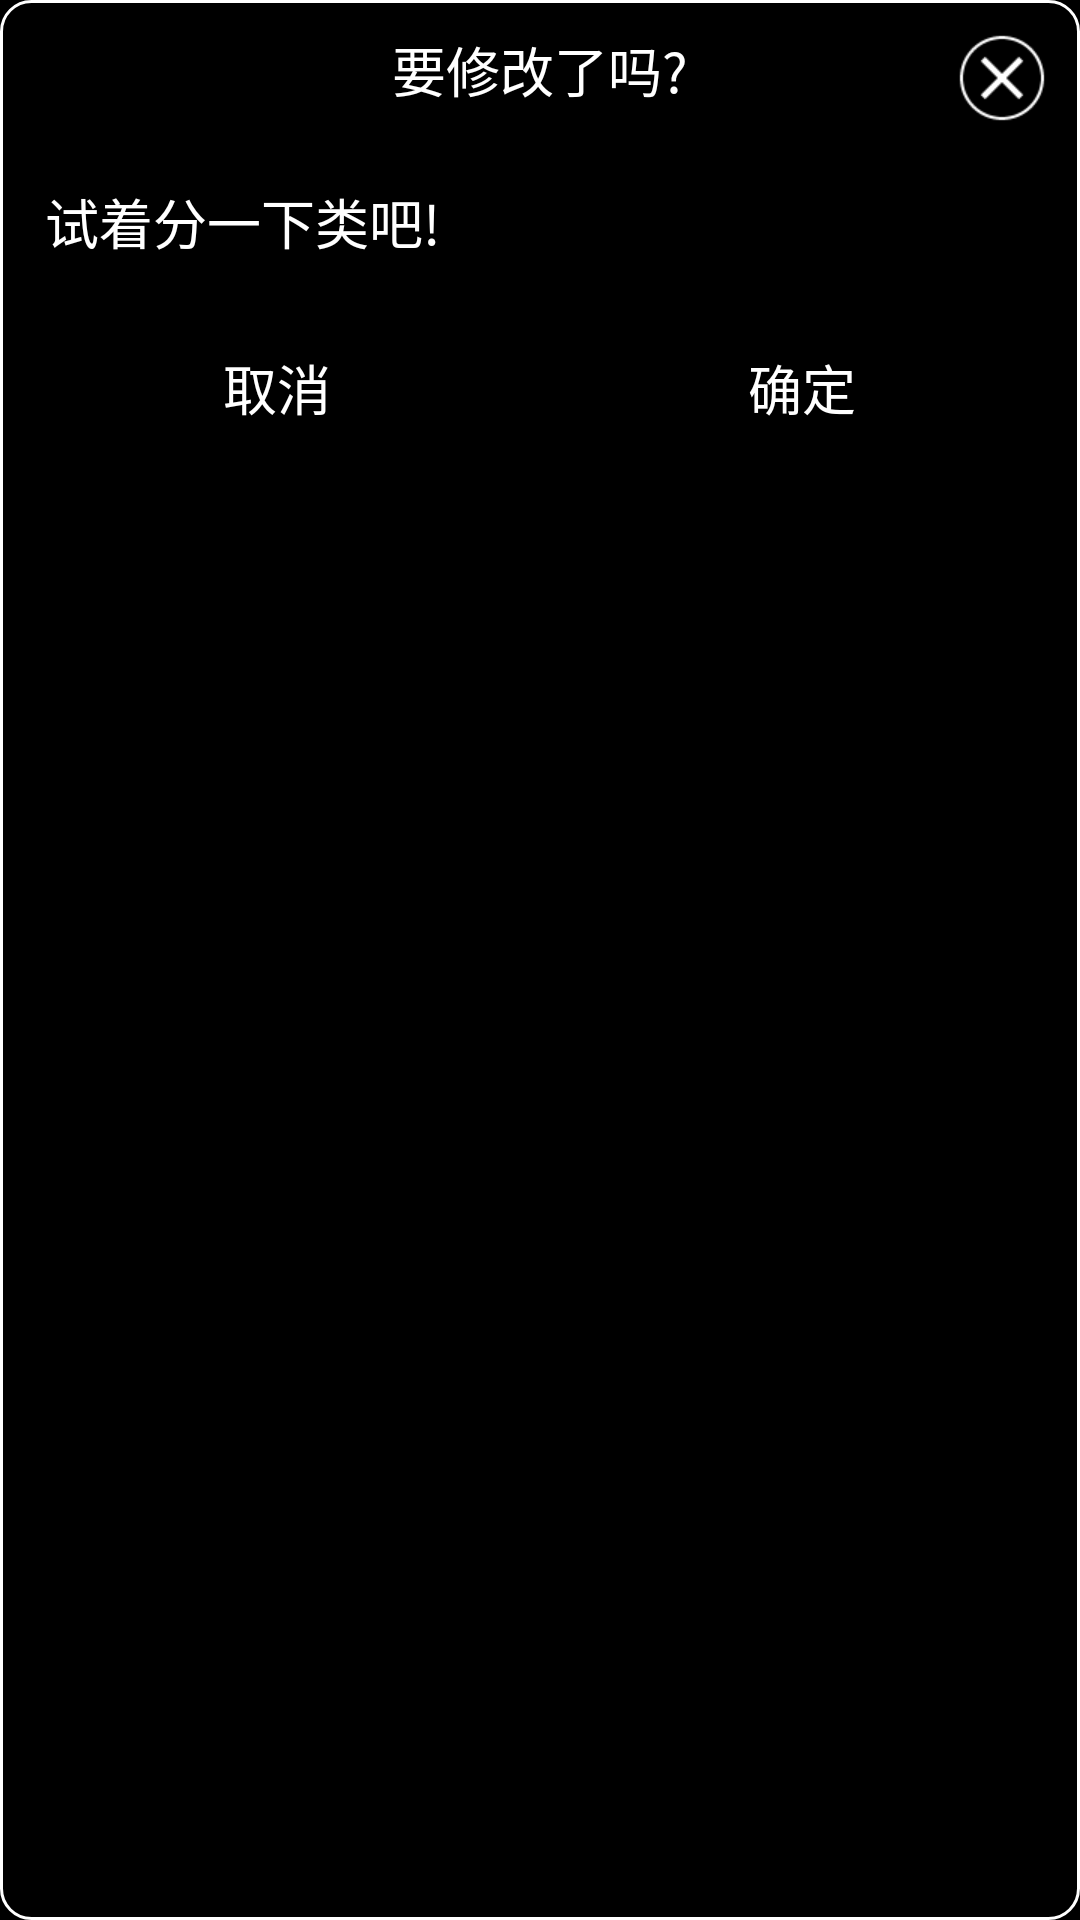

Screen size 1080px×1920px. Icon name, then its box in pixels as (x1, y1, x2, y2):
close: (959, 35, 1045, 121)
